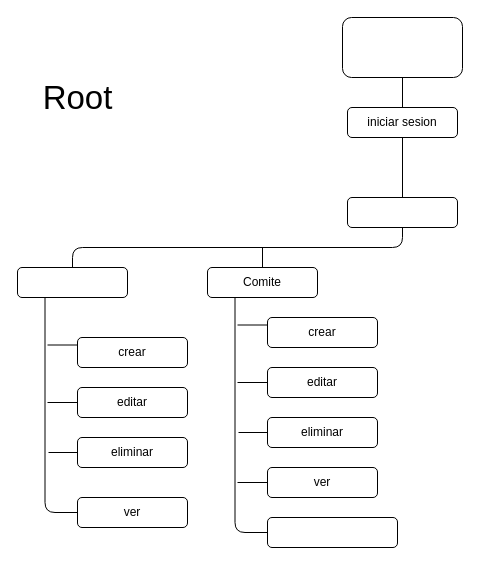
This 480x565 diagram has some shape labels left out. The centre of each missing label's shape, as x and y in pixels:
"cambiarResponsable" belongs at point 332,532.
"index" belongs at point 402,47.
"Panel principal" belongs at point 402,212.
"Usuario" belongs at point 72,282.
